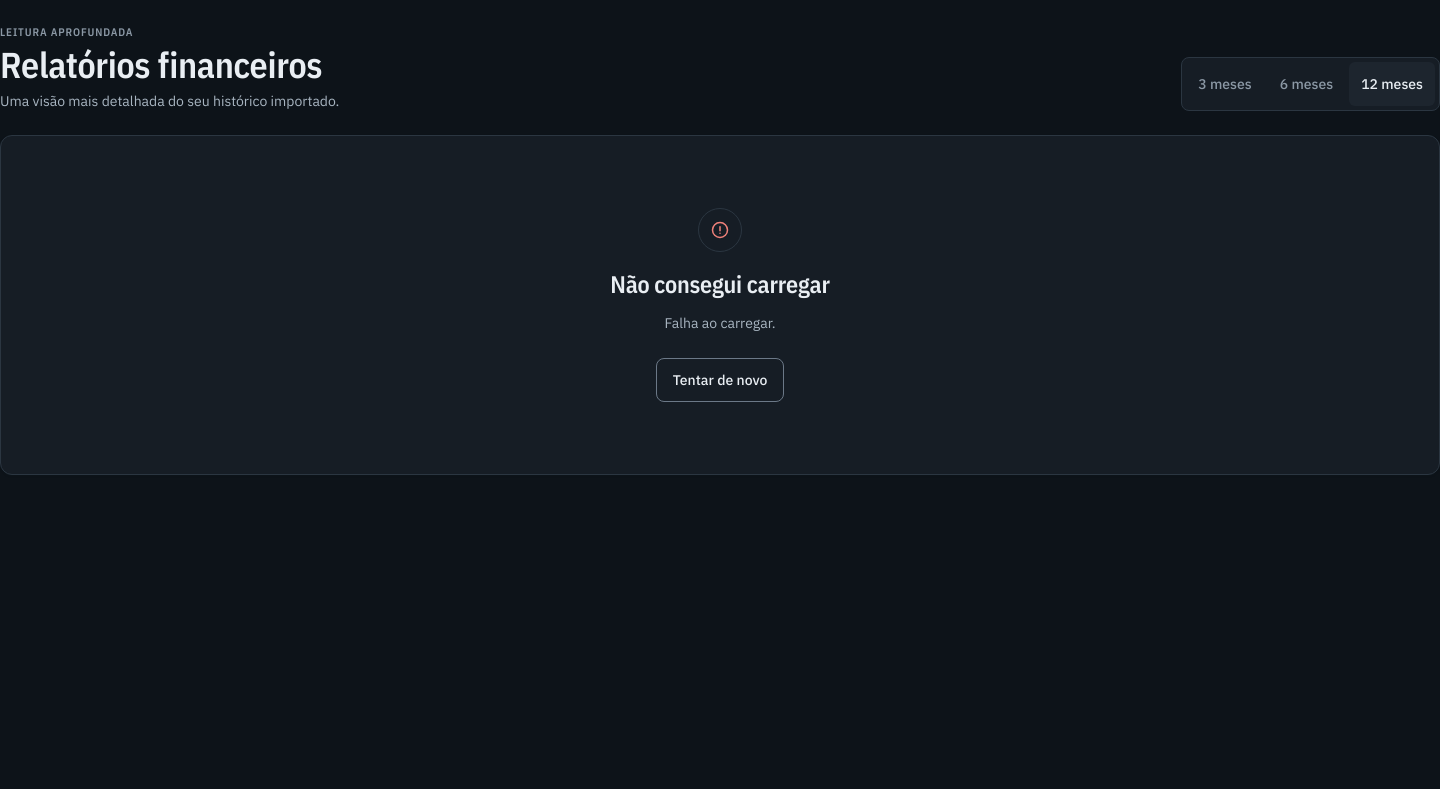
Test: Relatórios — estados e navegação › diferencia erro de vazio e permite recuperar a consulta
expect the message reads "Falha ao carregar.": met, box [664,314,776,332]
Click the button "Tentar de novo" at (720, 380), box [656,358,784,402]
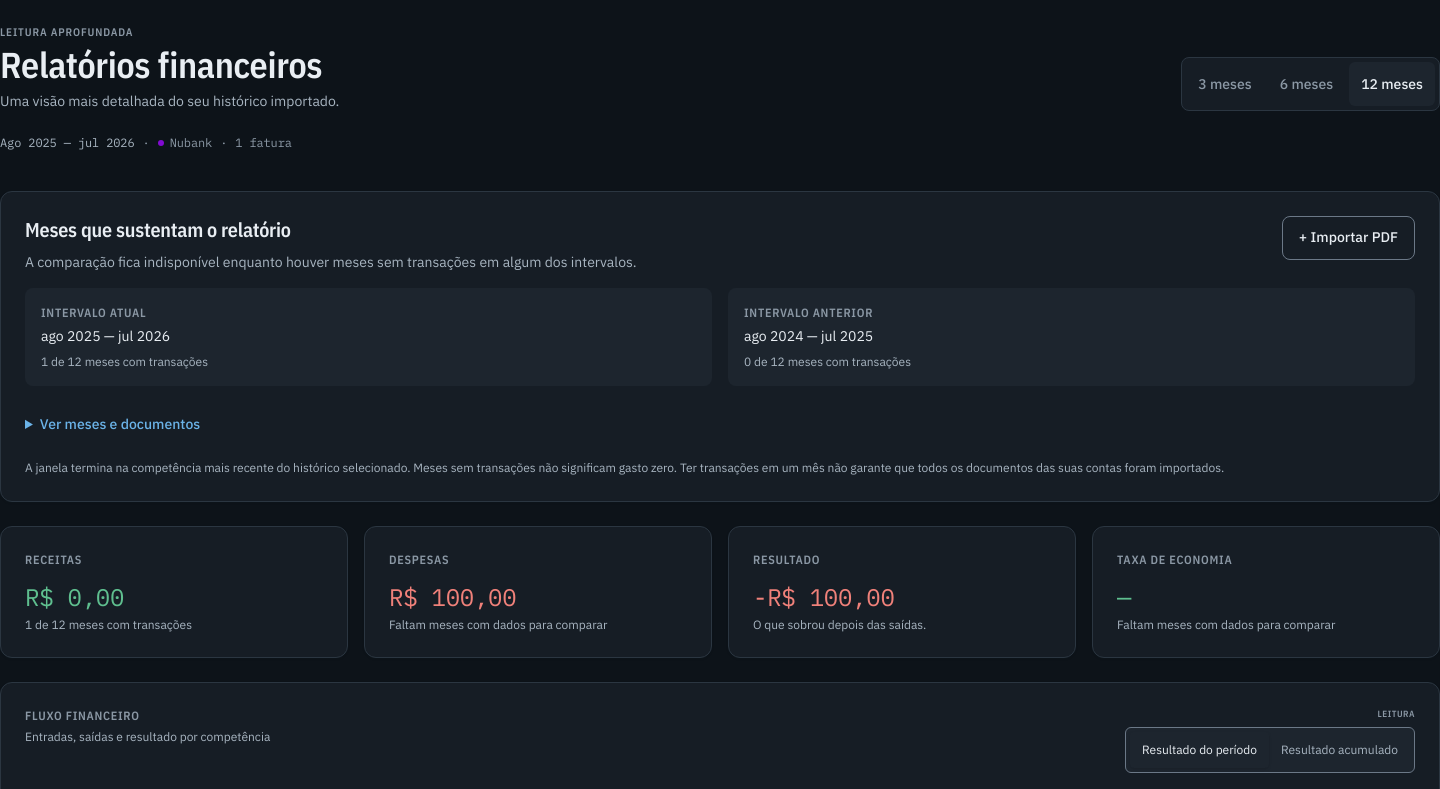
expect the text "1 fatura" is shown: met, box [235,134,292,150]
expect the message "Falha ao carregar." is gone: met
